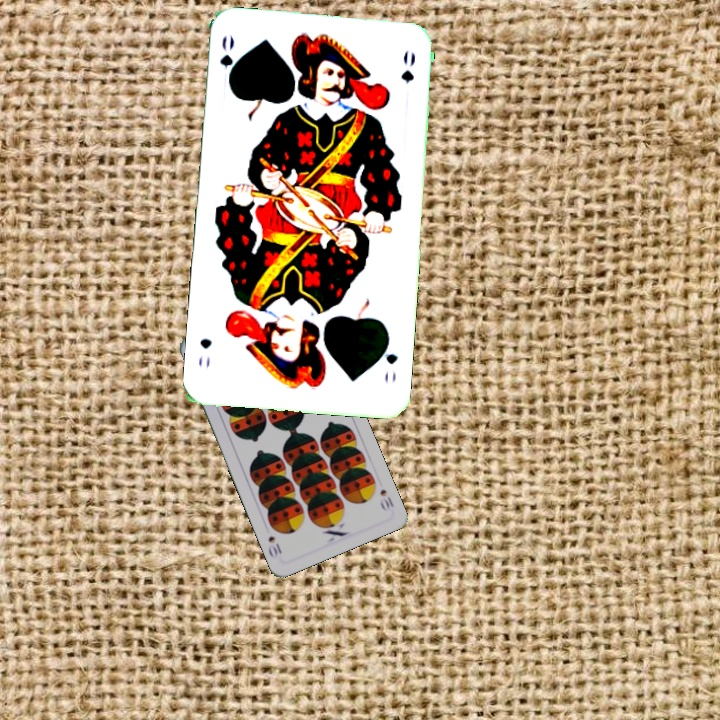GO: (216, 32, 239, 91), (377, 333, 401, 385)
S10: (376, 485, 396, 514)
